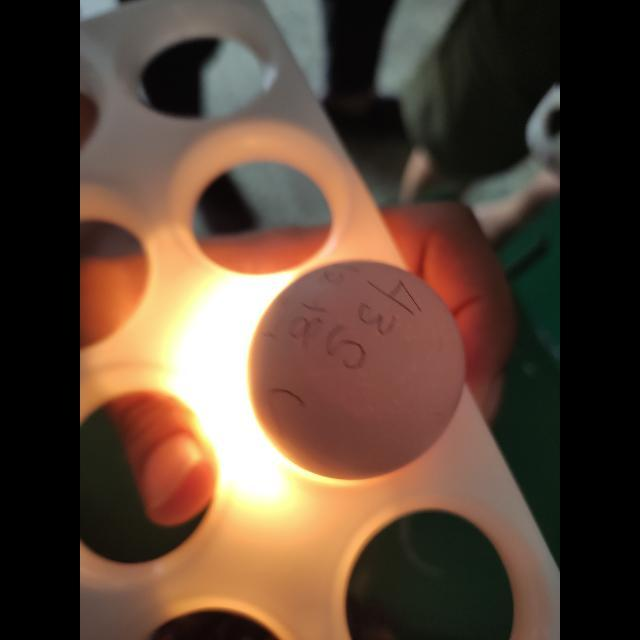Fertile: (245, 252, 471, 484)
